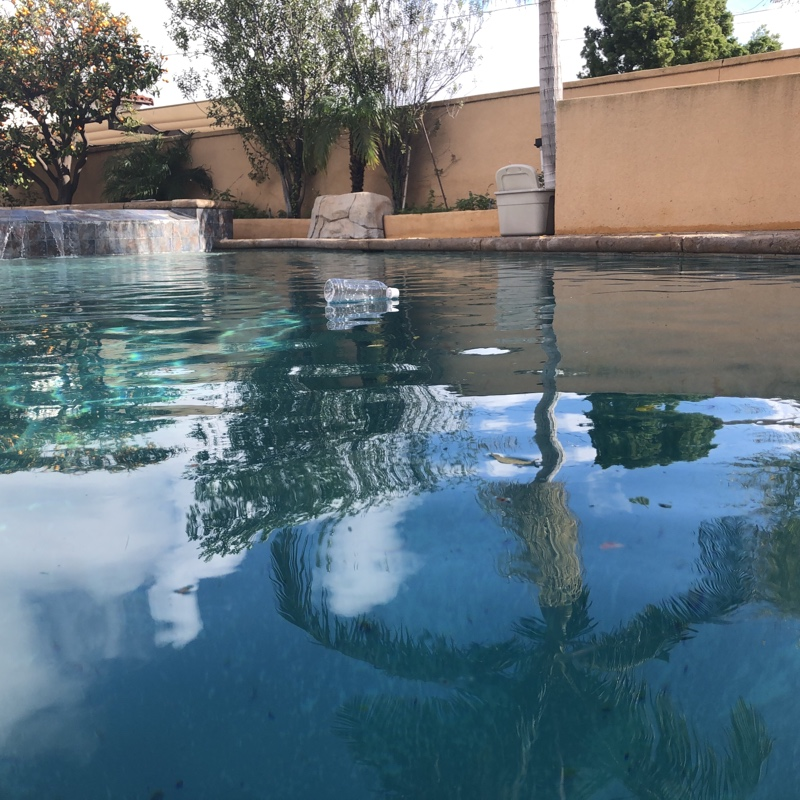Plastic Bottle: (321, 275, 401, 308)
